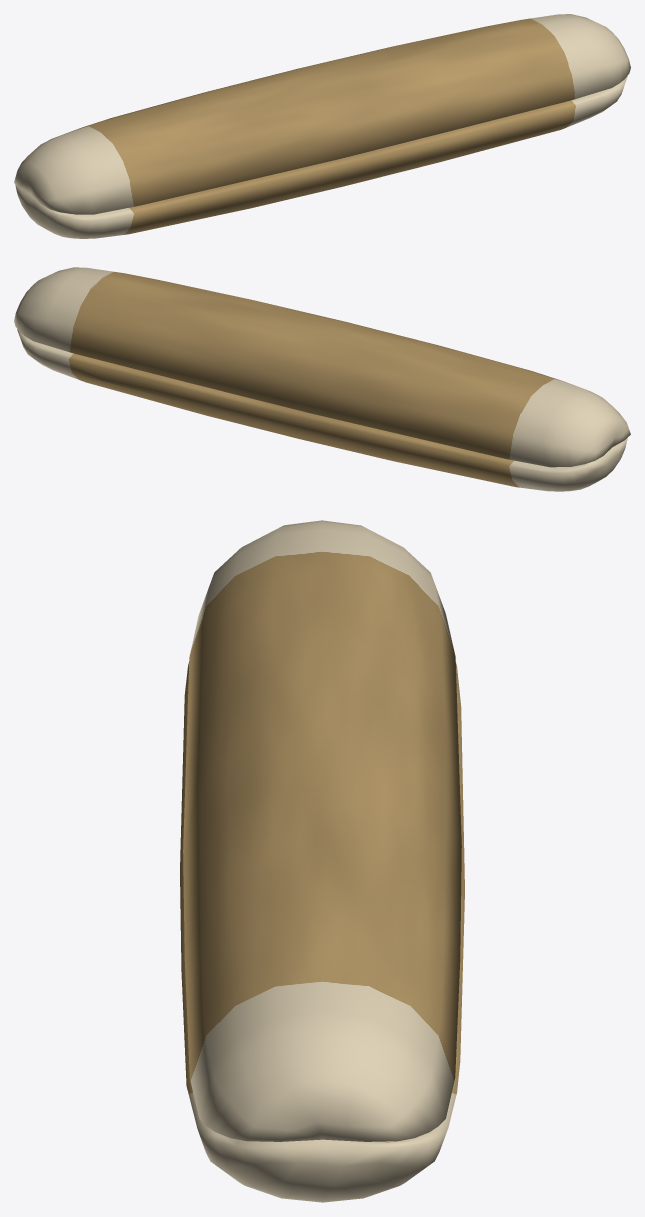
Rendered from shell_razor.fbx.
3 views of the same model, one above another, from view 1: azimuth 30°, elevation 25°; view 2: azimuth 150°, elevation 25°; view 3: azimuth 270°, elevation 25° (orthographic). The views are drawn at different scales.
Visible parts, largest first — view 1: shell_razor; view 2: shell_razor; view 3: shell_razor.
Boxes of the visible parts, box(x1,y1,x2,y2) form: shell_razor: box(14, 14, 630, 238); shell_razor: box(14, 267, 630, 491); shell_razor: box(180, 520, 464, 1202).
Bounding box in the file's own units: 0.18 × 0.031 × 0.0381.
Materials: 1 (1 with a texture image).
